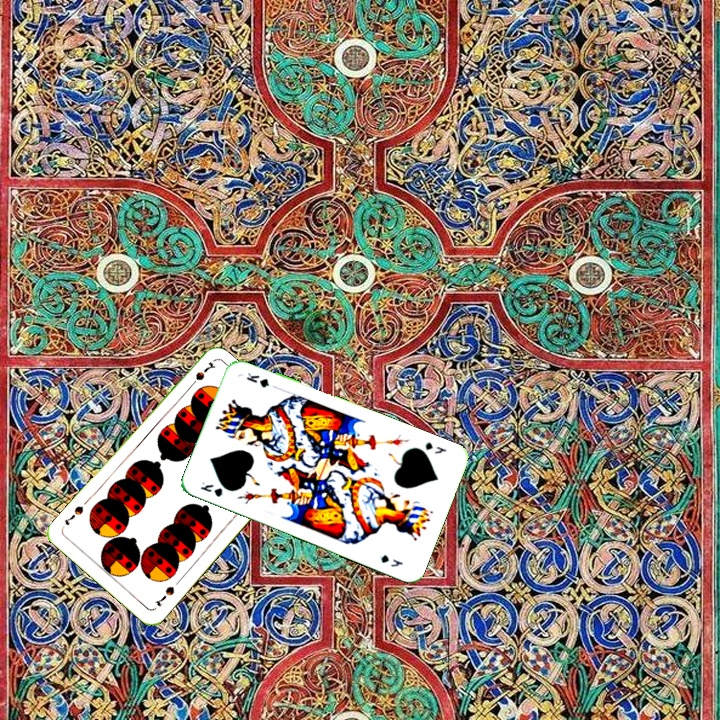GK: (196, 478, 226, 500), (421, 438, 449, 456)
S7: (184, 358, 217, 391), (150, 582, 177, 609)
